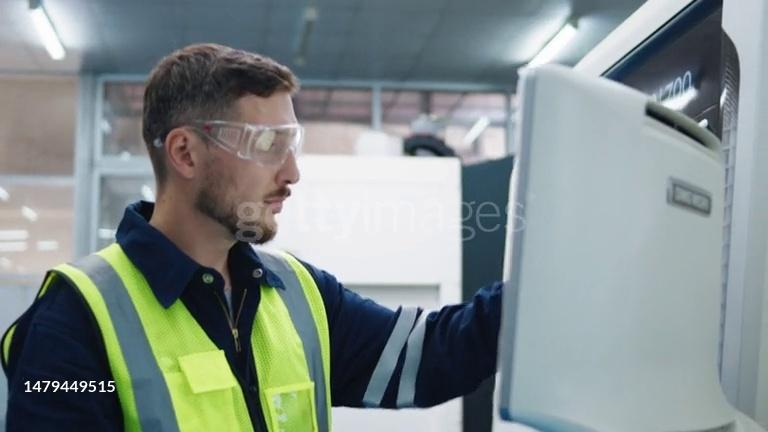person: (1, 45, 508, 432)
